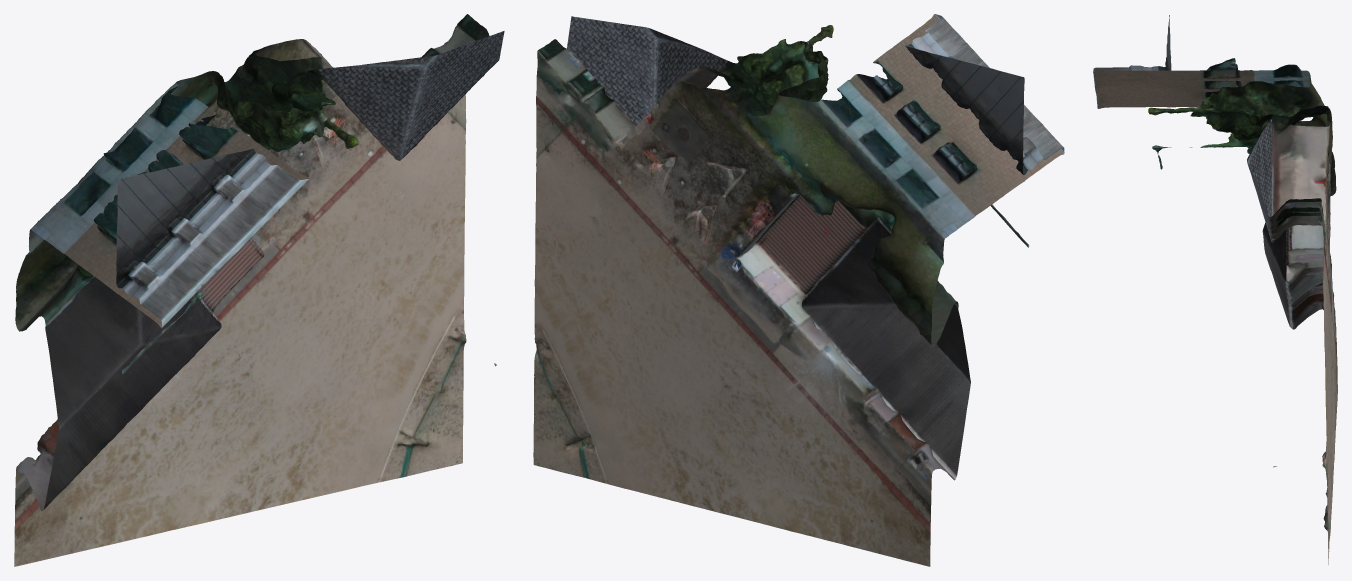
Rendered from Tile_+017_+014.fbx.
3 views of the same model, side by side, from view 1: azimuth 30°, elevation 25°; view 2: azimuth 150°, elevation 25°; view 3: azimuth 270°, elevation 25° (orthographic). The views are drawn at different scales.
Visible parts, largest first — view 1: DefaultName; view 2: DefaultName; view 3: DefaultName.
Boxes of the visible parts, bbox=[...] form: DefaultName: bbox=[14, 14, 504, 566]; DefaultName: bbox=[533, 14, 1064, 566]; DefaultName: bbox=[1093, 15, 1337, 564].
Bounding box in the file's own units: 22.54 × 22.54 × 13.27.
